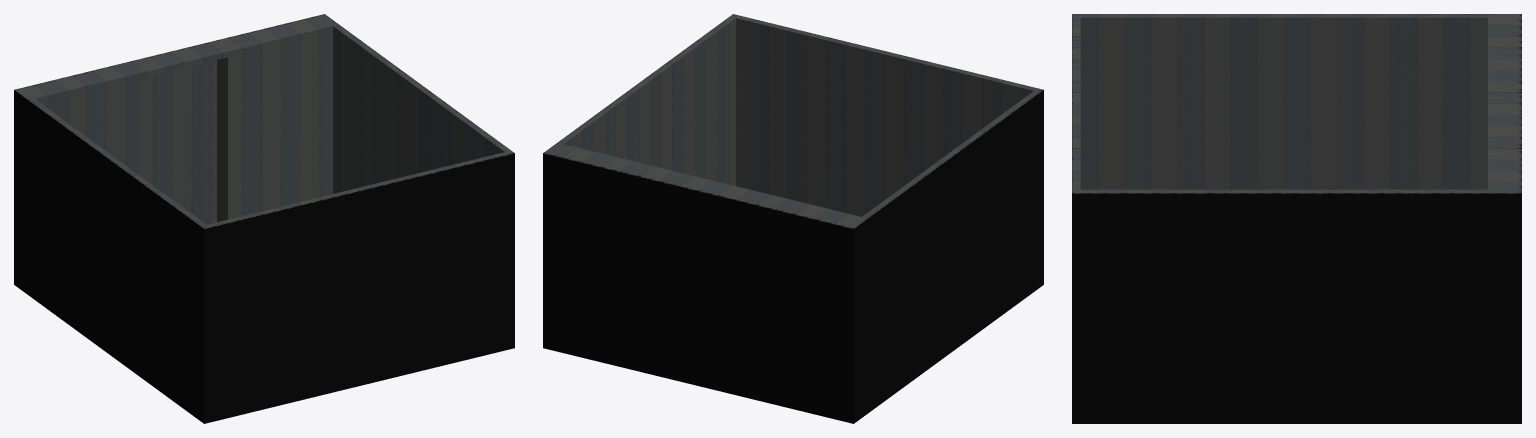
File: Wall_Bake.fbx
3 renders of one model, left to right at view 1: azimuth 30°, elevation 25°; view 2: azimuth 150°, elevation 25°; view 3: azimuth 270°, elevation 25°, orthographic. The views are drawn at different scales.
Parts seen in each view (by area): view 1: Wall_Bake; view 2: Wall_Bake; view 3: Wall_Bake.
Part boxes in pixels (x1,y1,x2,y2): Wall_Bake: (14,14,514,423); Wall_Bake: (543,14,1043,423); Wall_Bake: (1072,14,1521,423).
Size of the model in its own units: 530 by 500 by 300.
1 material, 1 textured.
